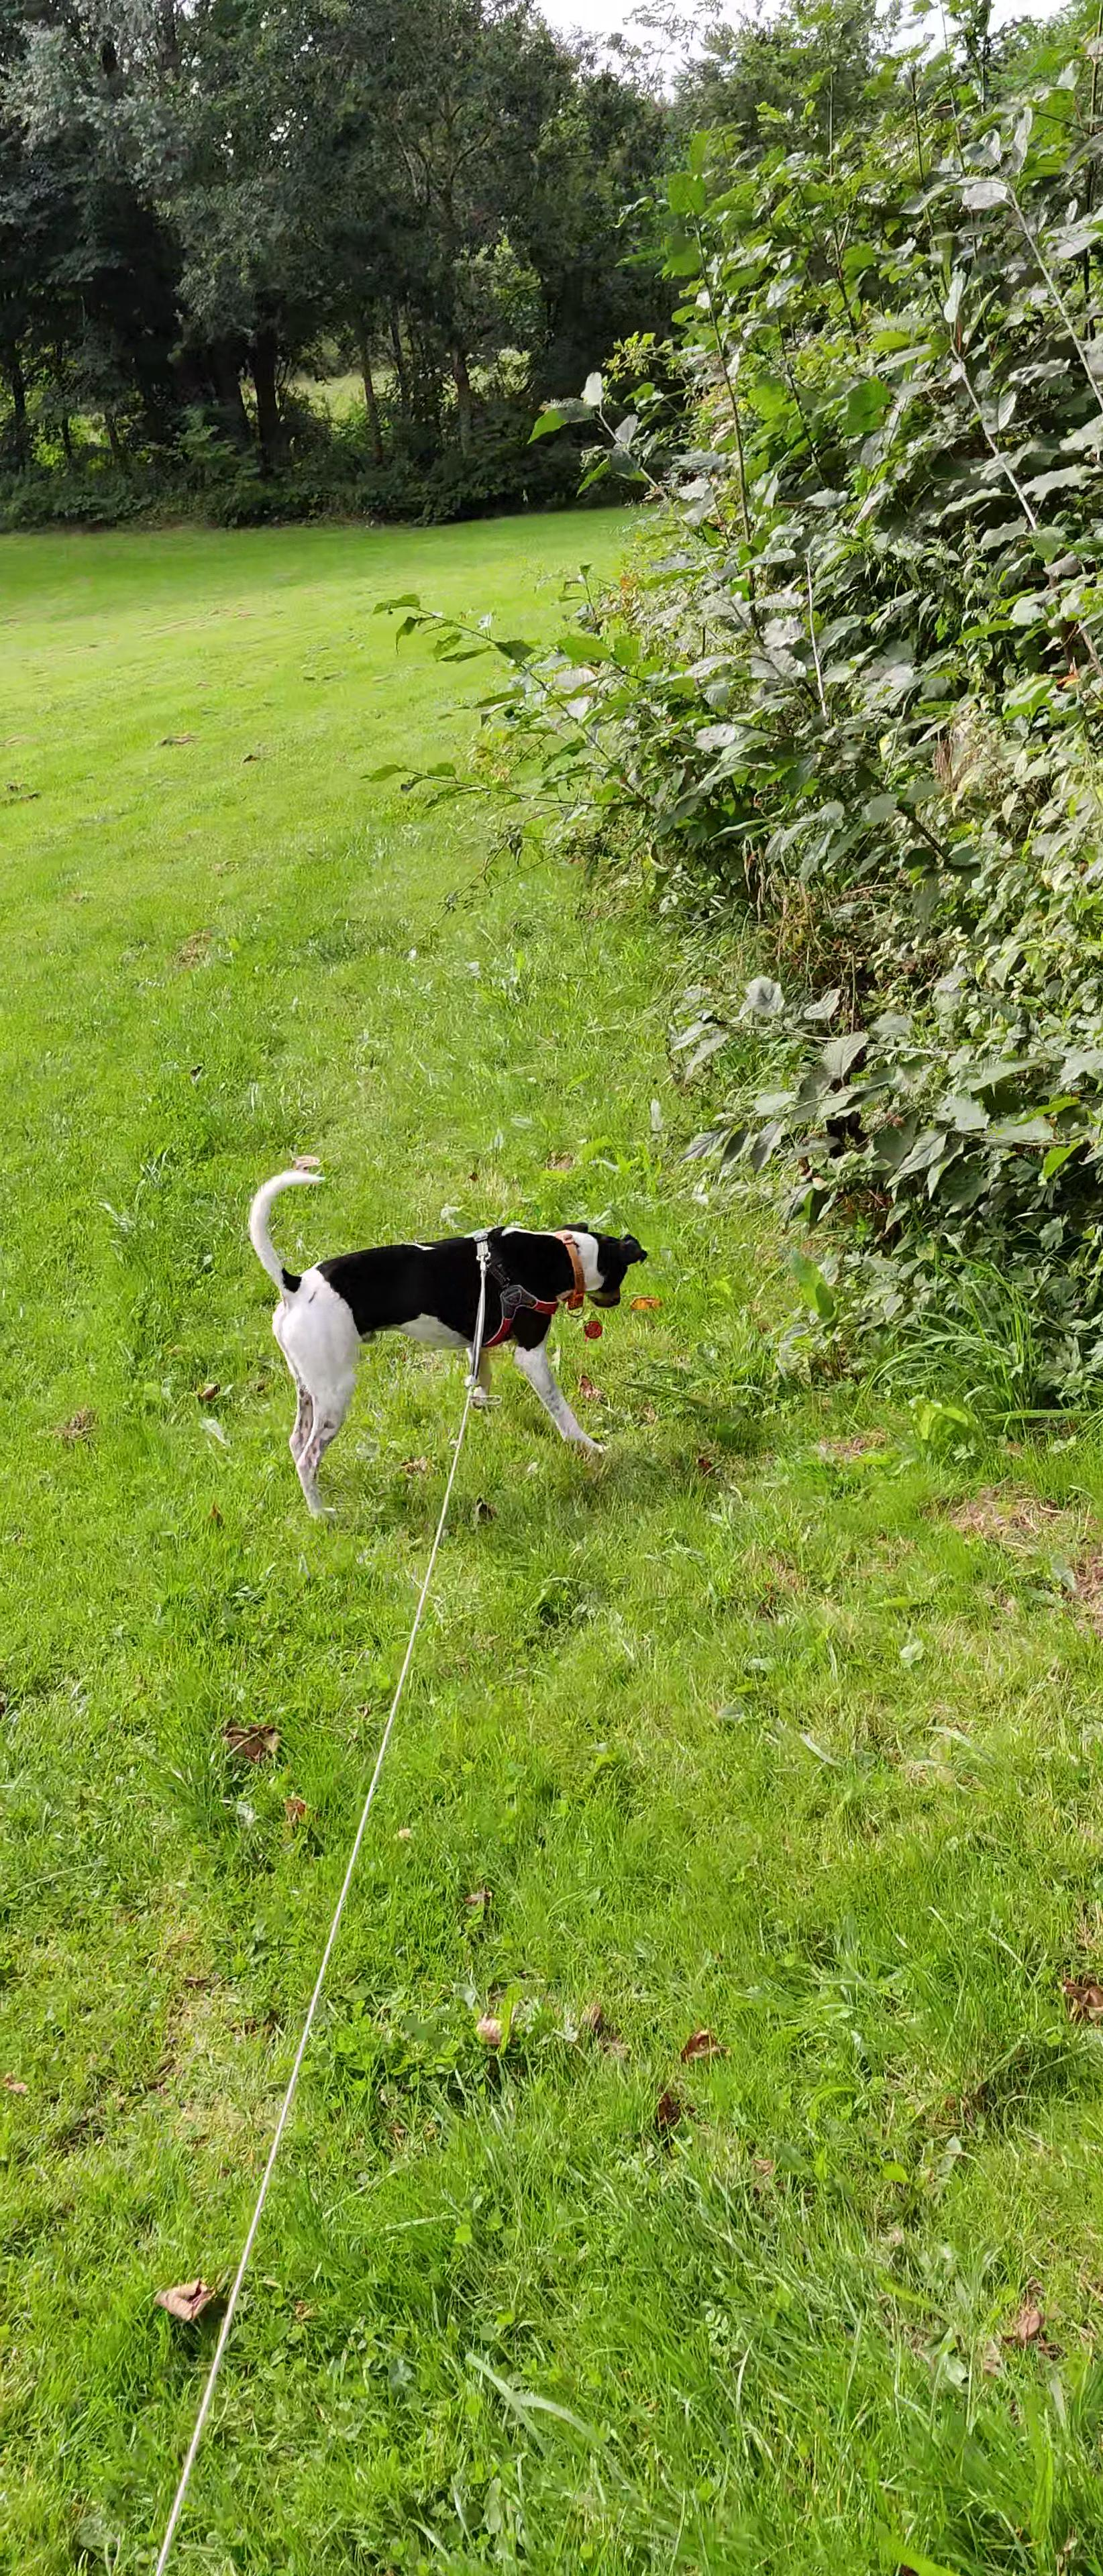Dog: (242, 1166, 654, 1523)
